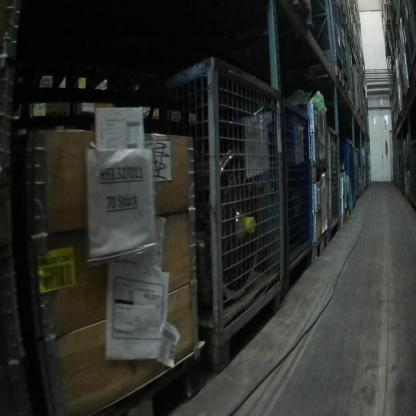pallet: (63, 355, 206, 412), (312, 224, 333, 267), (402, 78, 413, 107), (382, 16, 397, 31), (337, 73, 348, 92), (349, 89, 355, 105)
stillage: (147, 43, 283, 371), (275, 87, 312, 304), (306, 1, 343, 75), (327, 120, 345, 240), (341, 130, 355, 215), (336, 5, 350, 86), (355, 146, 365, 226), (407, 117, 415, 210), (354, 67, 362, 118), (397, 145, 404, 192), (390, 151, 398, 189)
